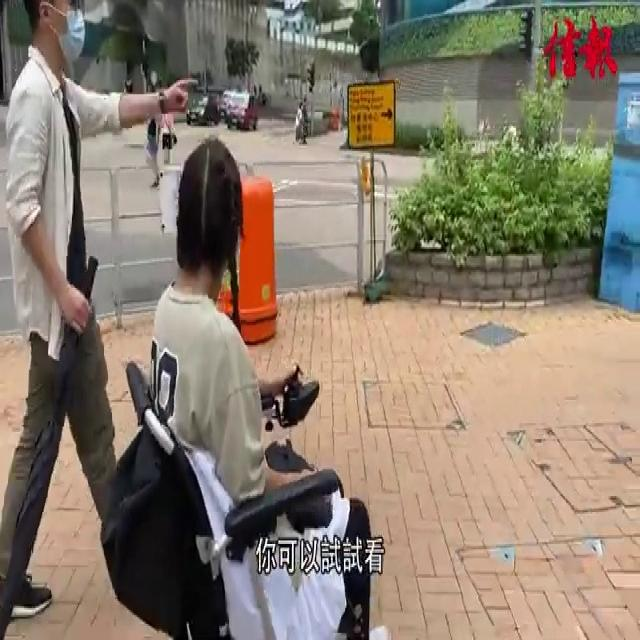wheelchairs: (96, 310, 399, 640)
